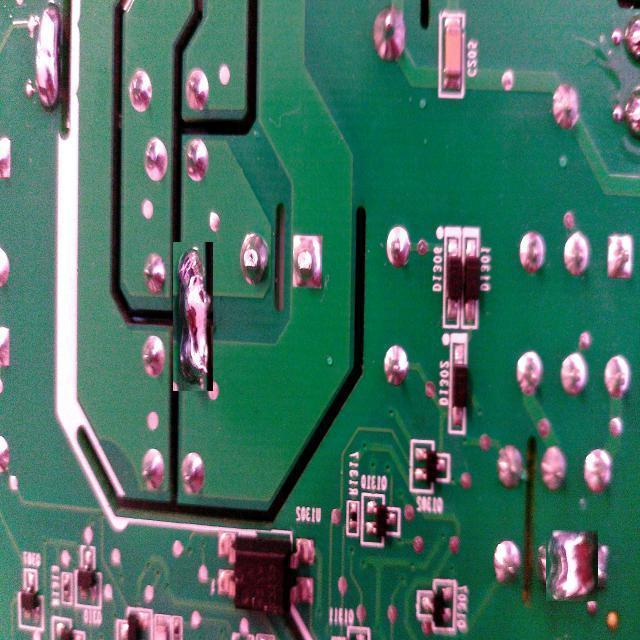Short_circuit: (173, 242, 213, 391), (542, 534, 604, 596)
